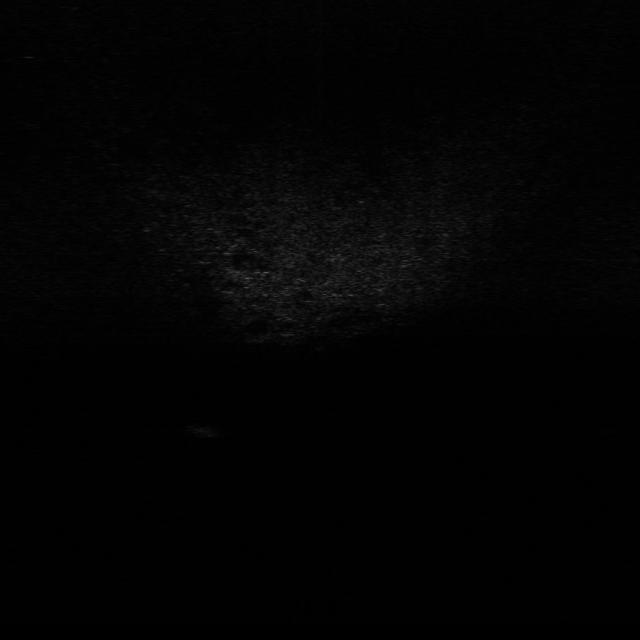cube: (187, 416, 223, 442)
